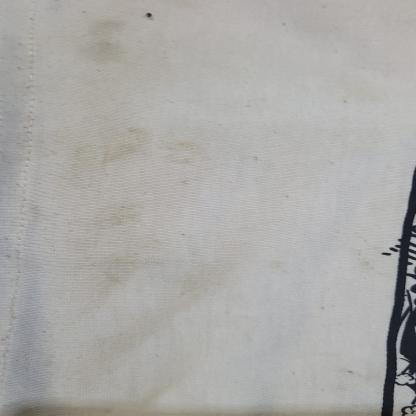spot: (36, 110, 225, 182), (80, 193, 162, 296), (75, 9, 146, 76), (70, 119, 141, 172), (97, 133, 203, 166), (103, 24, 143, 67), (121, 1, 163, 23)
